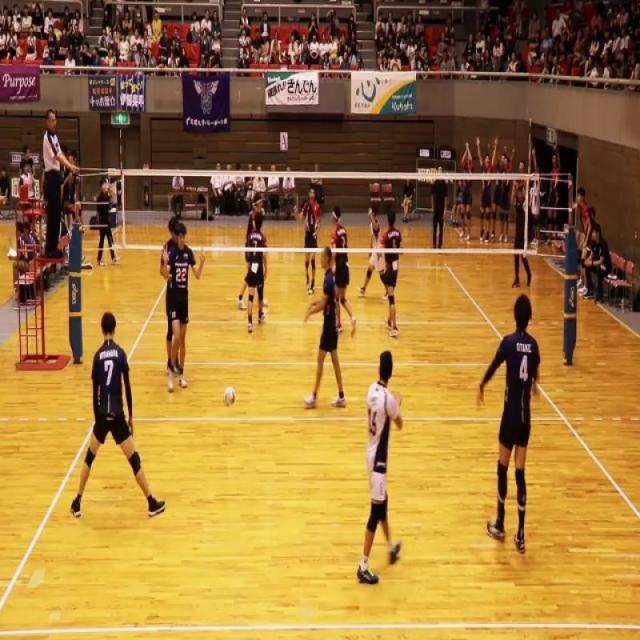volleyball: (223, 384, 236, 407)
